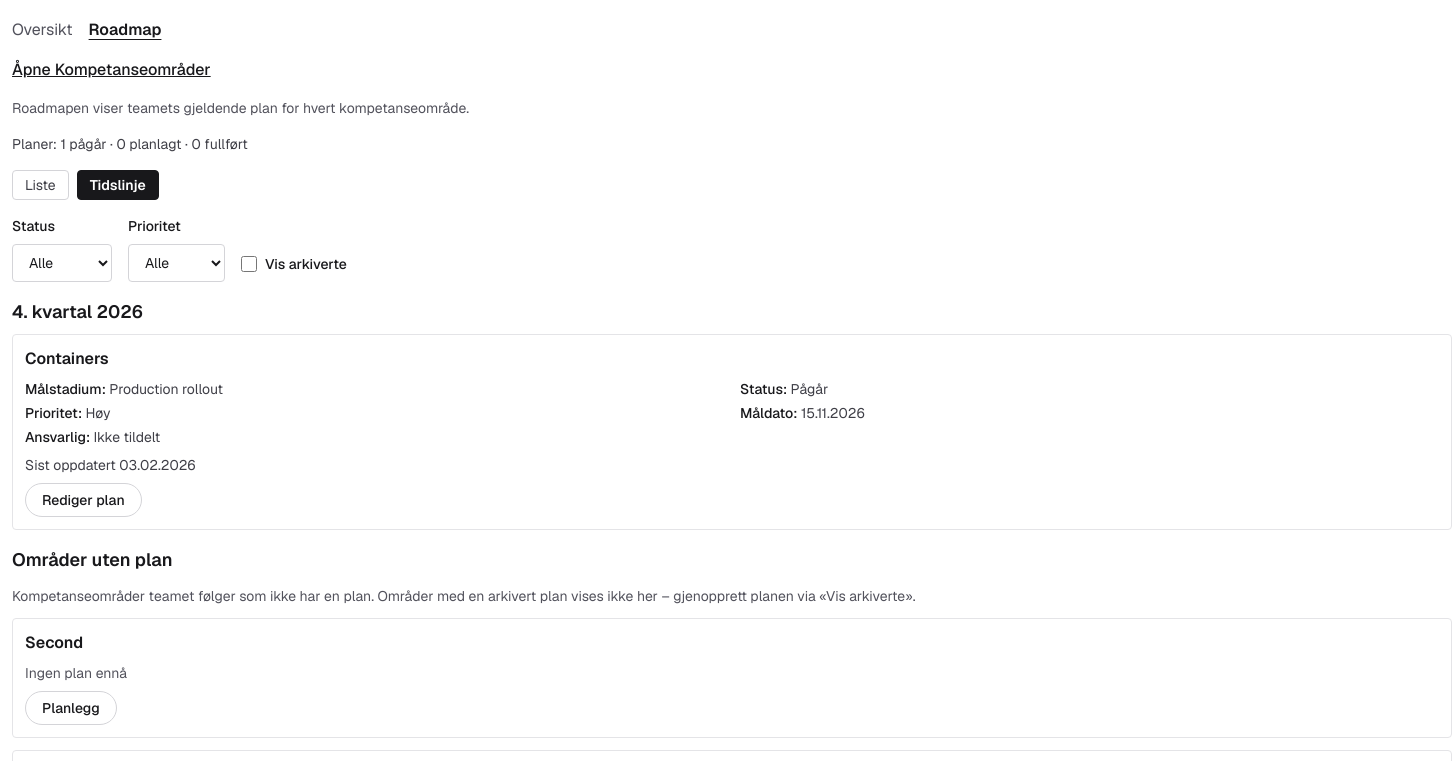
Test case: Roadmap page editing — successful write and canonical refetch › regroups the timeline from the refetched target date rather than local state
Expected: the heading "Containers" is shown, top-left (25, 348), bottom-right (109, 369)
Expected: the heading "4. kvartal 2026" is shown, top-left (12, 300), bottom-right (143, 323)
Click the button with aria-label "Rediger plan – Containers": (83, 500) top-left (25, 483), bottom-right (142, 517)
(page scrolled)
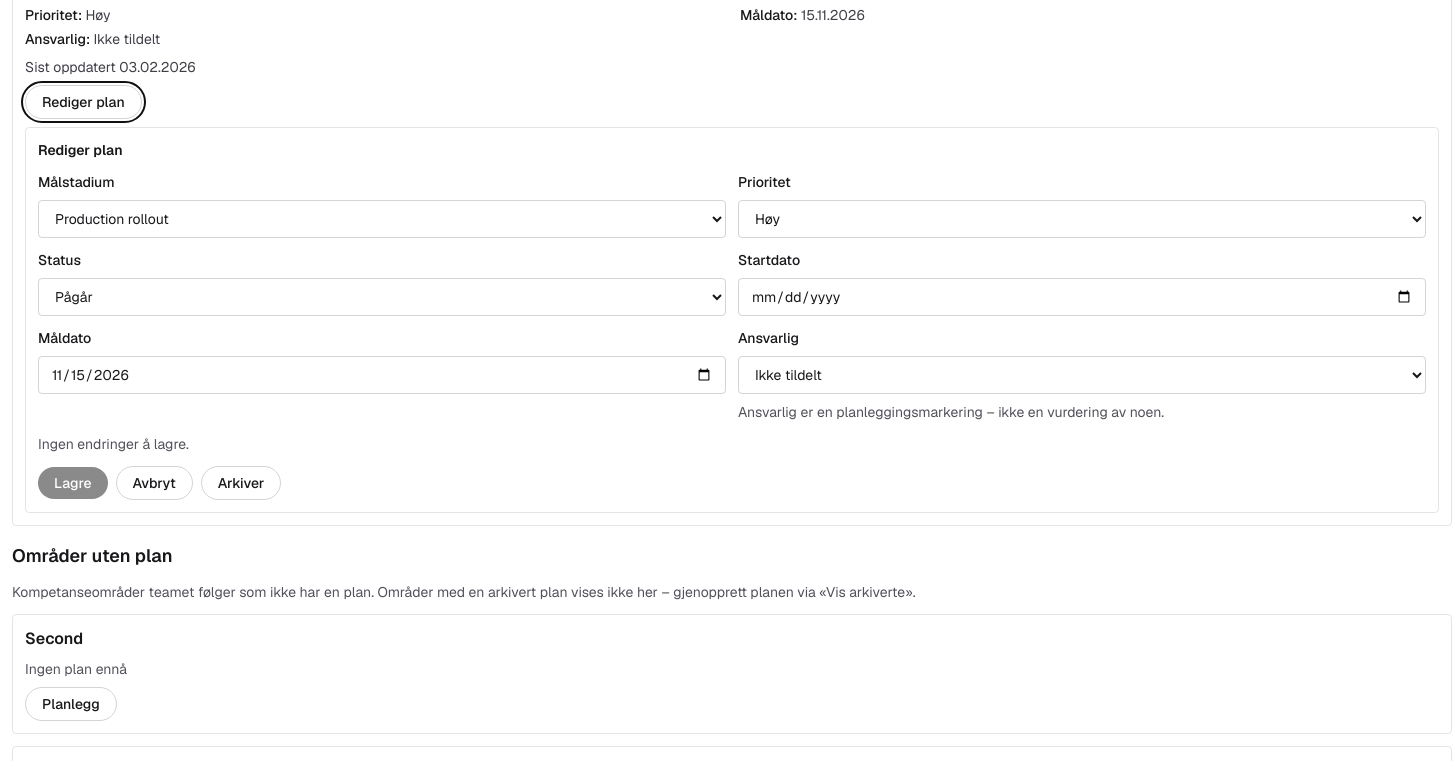
In the date field labelled "Måldato": (382, 375) top-left (38, 356), bottom-right (726, 394), type "2027-02-10"
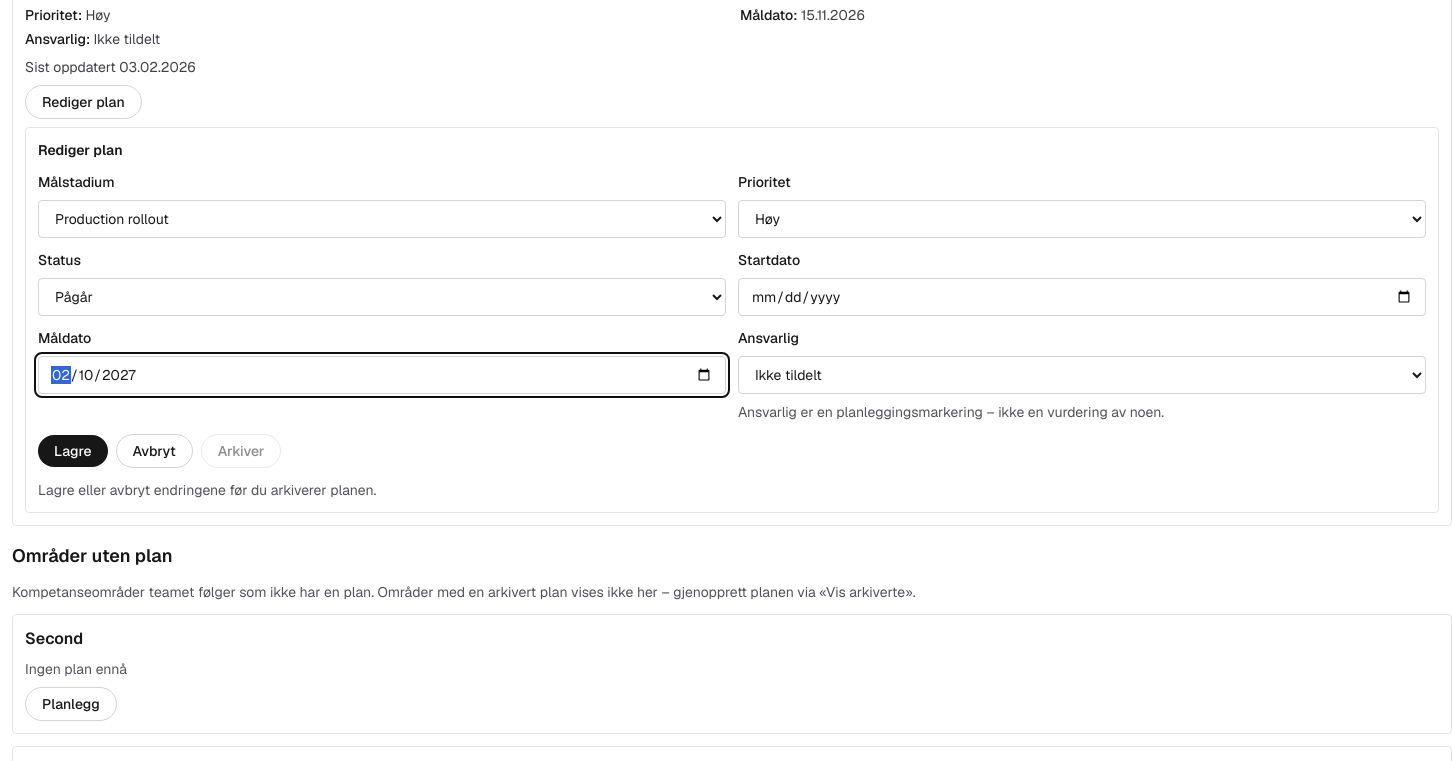
Click the button "Lagre": (73, 451) top-left (38, 435), bottom-right (108, 467)
(page scrolled)
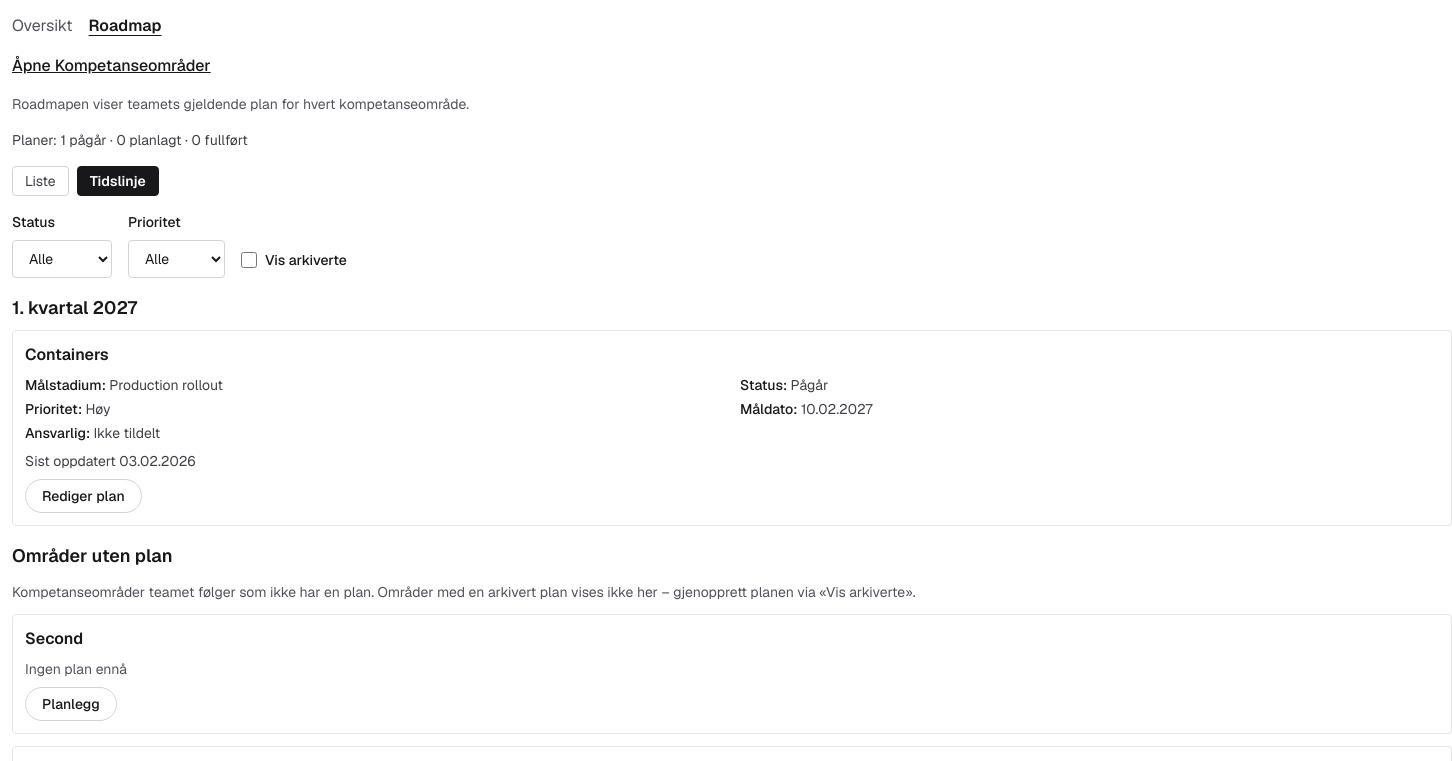
Result: the heading "1. kvartal 2027" is shown at top-left (12, 296), bottom-right (137, 319)
